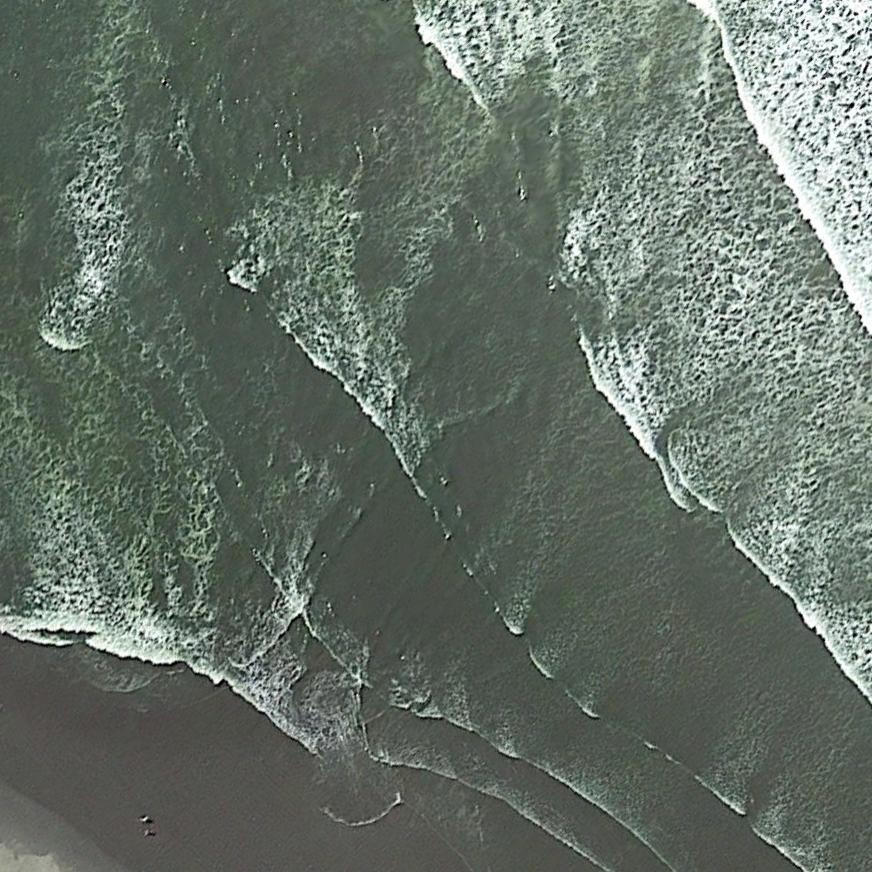rip_current: (295, 96, 623, 735)
